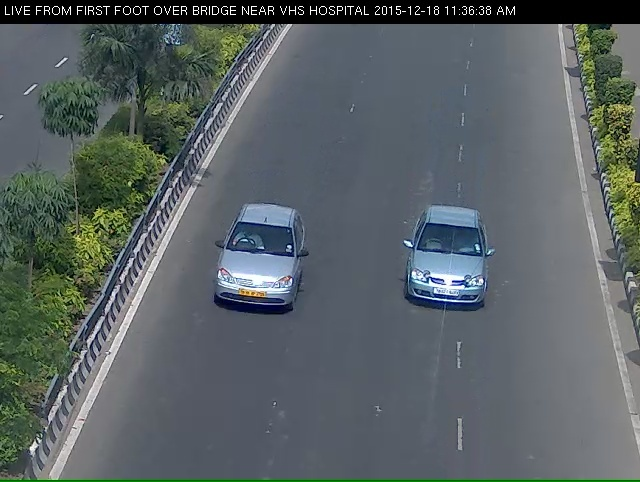Car: (393, 216, 519, 338), (207, 221, 308, 345)
